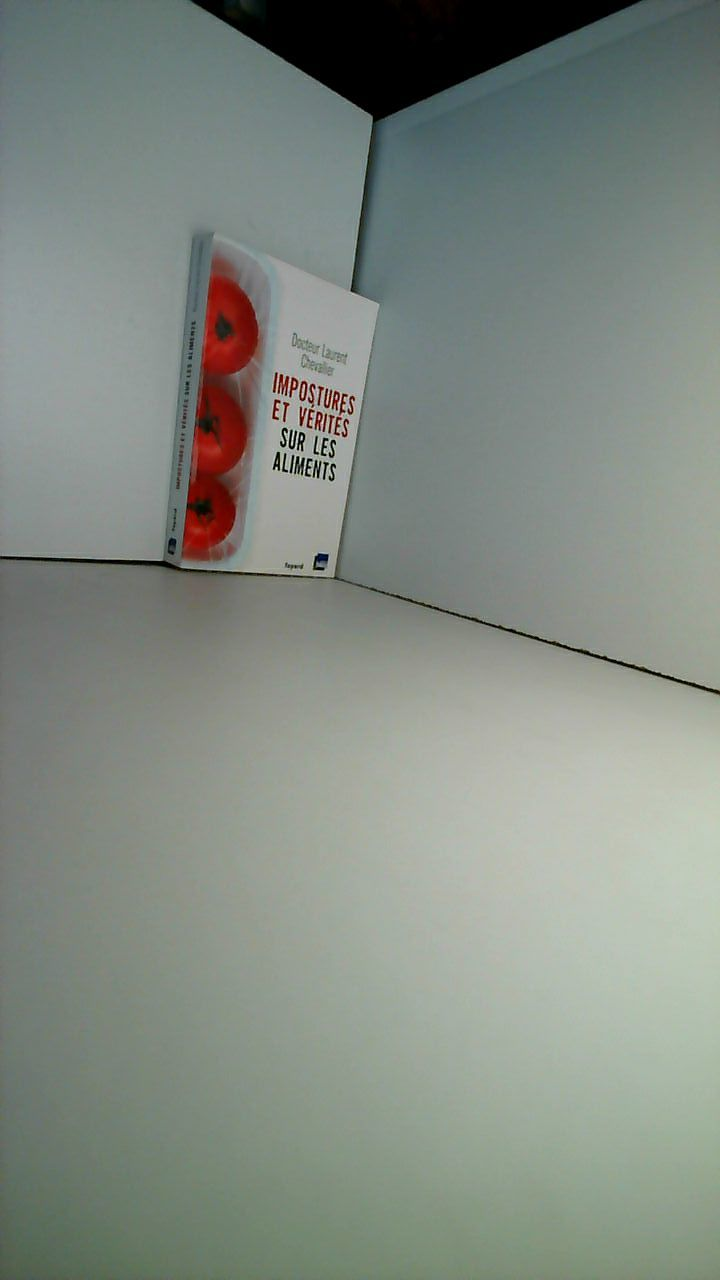book: (150, 214, 394, 596)
